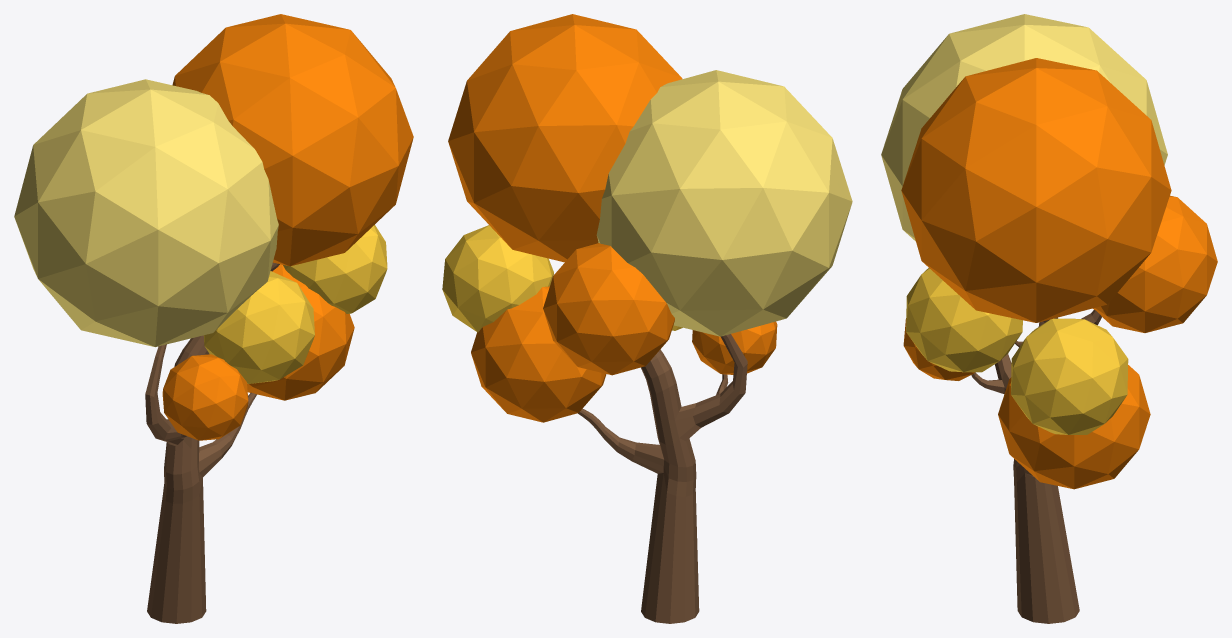
File: Isl_13_Tree_2.fbx
The picture shows the model from 3 angles, left to right: view 1: azimuth 30°, elevation 25°; view 2: azimuth 150°, elevation 25°; view 3: azimuth 270°, elevation 25°; orthographic projection. The views are drawn at different scales.
Parts seen in each view (by area): view 1: Isl_13_Tree_2; view 2: Isl_13_Tree_2; view 3: Isl_13_Tree_2.
Part boxes in pixels (left/top/right/bottom): Isl_13_Tree_2: left=14, top=14, right=413, bottom=623; Isl_13_Tree_2: left=442, top=14, right=852, bottom=623; Isl_13_Tree_2: left=881, top=14, right=1217, bottom=623.
Bounding box in the file's own units: 644 × 492 × 961.
Materials: 1 (1 with a texture image).
